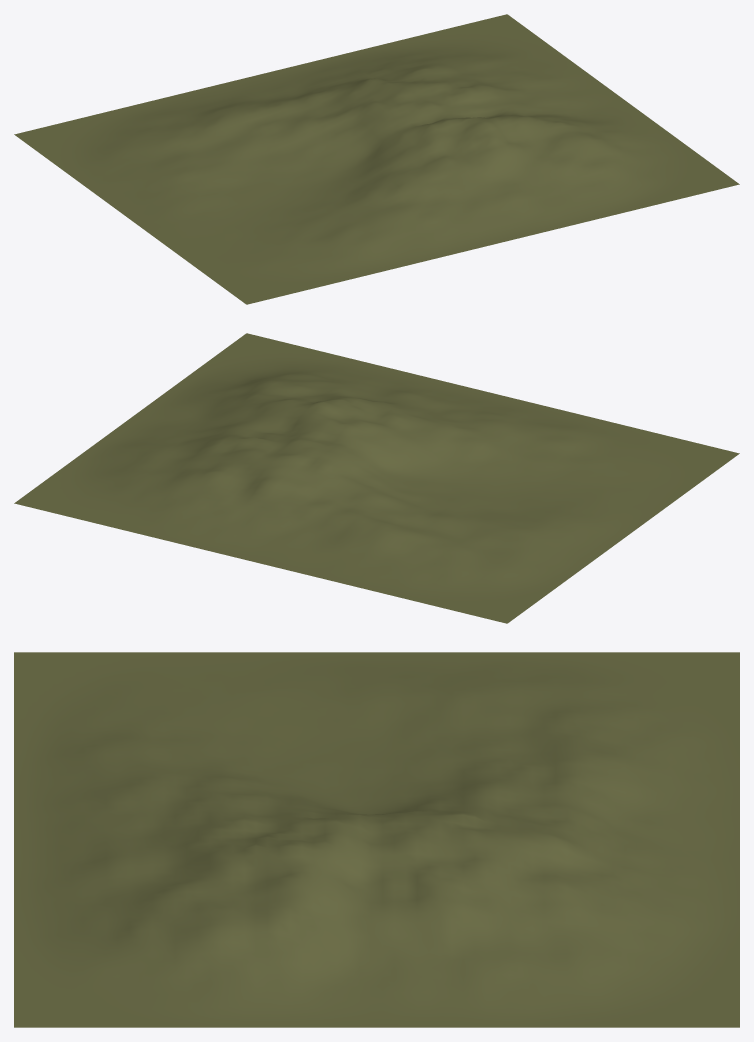
File: terrain-export.fbx
The picture shows the model from 3 angles, top to bottom: view 1: azimuth 30°, elevation 25°; view 2: azimuth 150°, elevation 25°; view 3: azimuth 270°, elevation 25°; orthographic projection. The views are drawn at different scales.
Parts seen in each view (by area): view 1: Landscape; view 2: Landscape; view 3: Landscape.
Boxes of the visible parts, left/top/right/bottom form: Landscape: left=14, top=14, right=739, bottom=304; Landscape: left=14, top=333, right=739, bottom=623; Landscape: left=14, top=652, right=739, bottom=1027.
Bounding box in the file's own units: 18.95 × 1.32 × 15.48.
